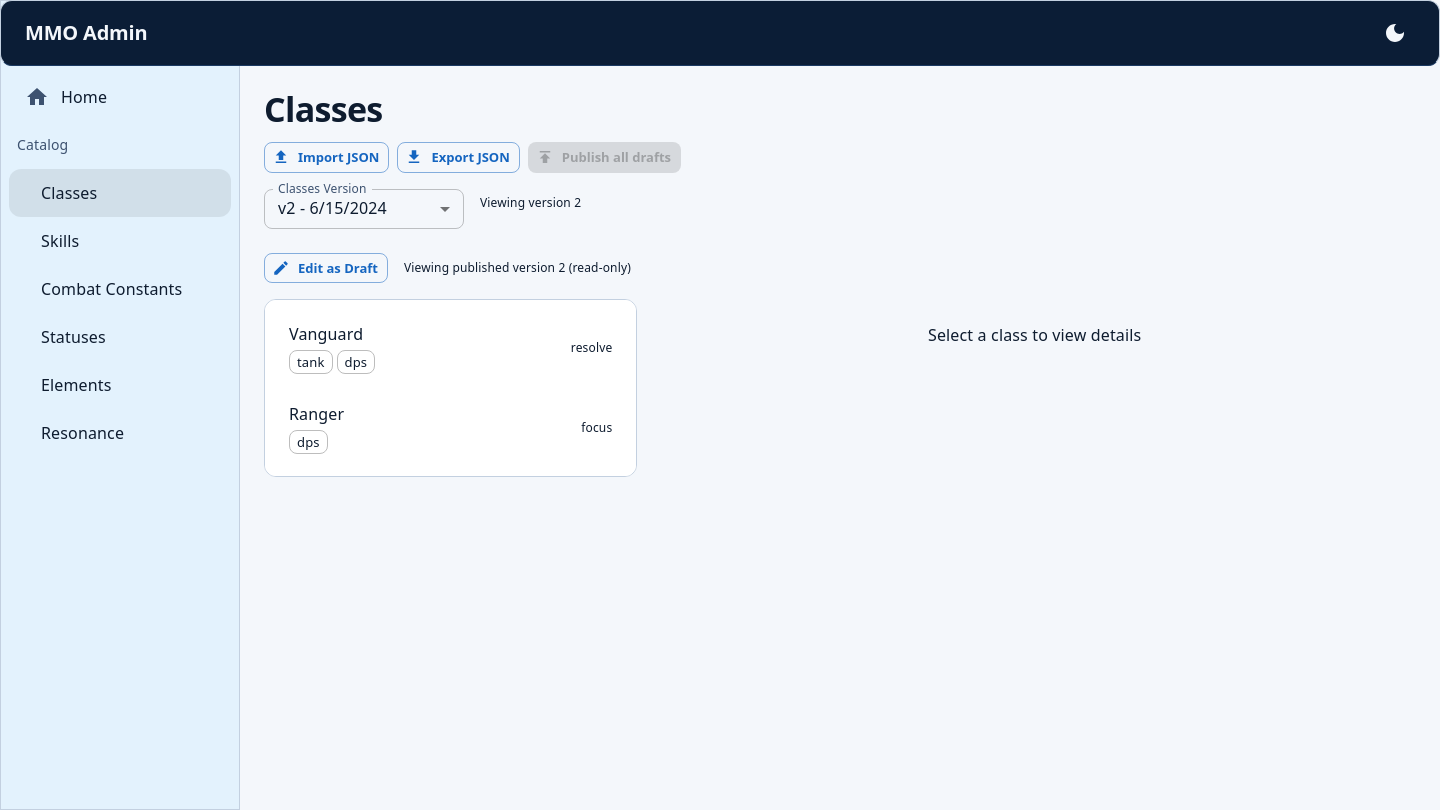
Test case: CatalogPage › switches catalog types from the sidebar
Expected: the dropdown named "Classes Version" is shown, [278, 197, 387, 219]
Click the link "Skills" at x=60, y=241, box [41, 230, 79, 252]
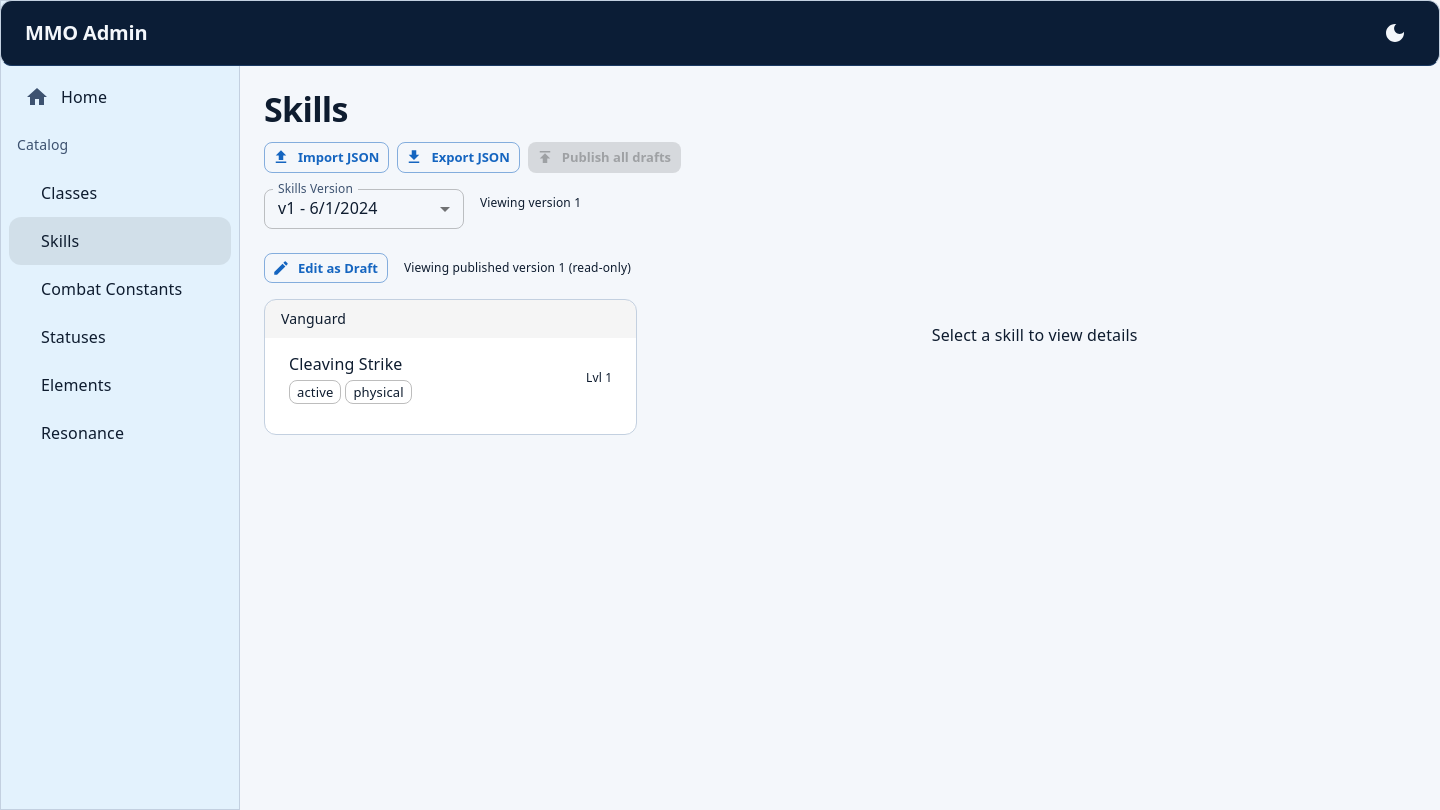
Expected: the dropdown named "Skills Version" is shown, [278, 197, 378, 219]
Result: the heading "Skills" is shown at [264, 86, 348, 132]
